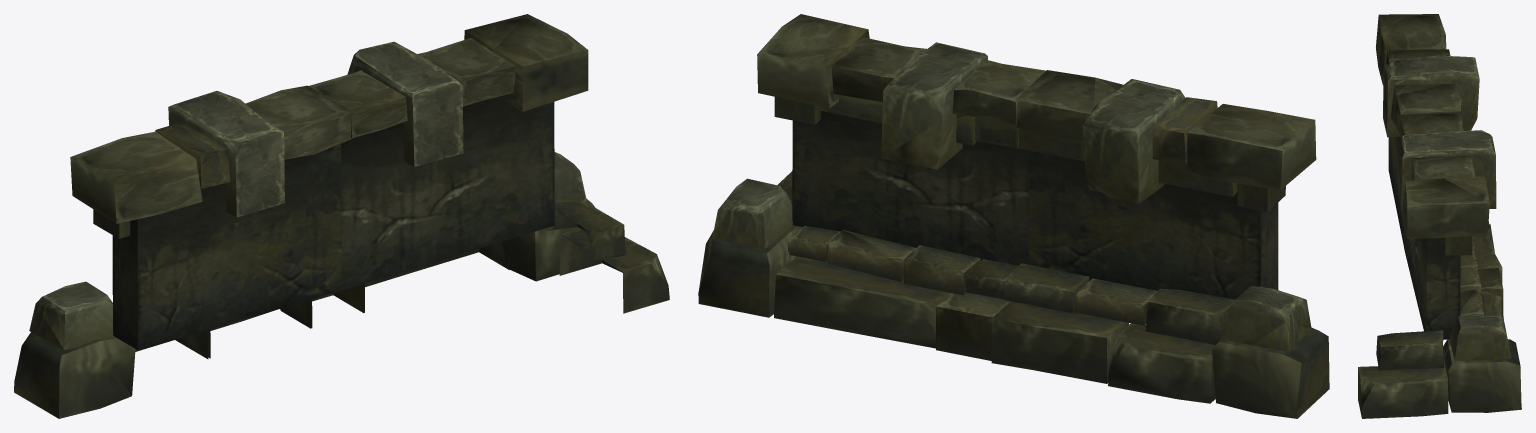
File: fxmg_wall2.FBX
The picture shows the model from 3 angles, left to right: view 1: azimuth 30°, elevation 25°; view 2: azimuth 150°, elevation 25°; view 3: azimuth 270°, elevation 25°; orthographic projection. The views are drawn at different scales.
Visible parts, largest first — view 1: KLMSM_wall2; view 2: KLMSM_wall2; view 3: KLMSM_wall2.
Boxes of the visible parts, x1,y1,x2,y2 form: KLMSM_wall2: [14, 14, 669, 418]; KLMSM_wall2: [698, 14, 1329, 418]; KLMSM_wall2: [1358, 14, 1521, 418].
Size of the model in its own units: 423 by 175 by 129.
